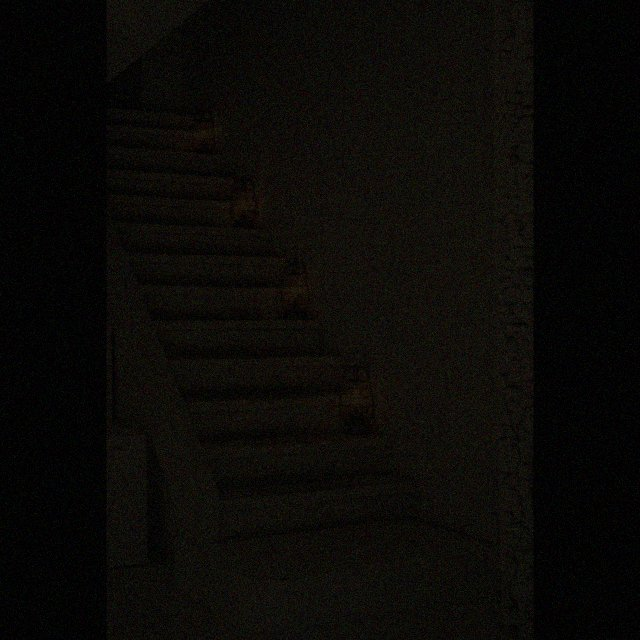stair: (108, 108, 496, 631)
